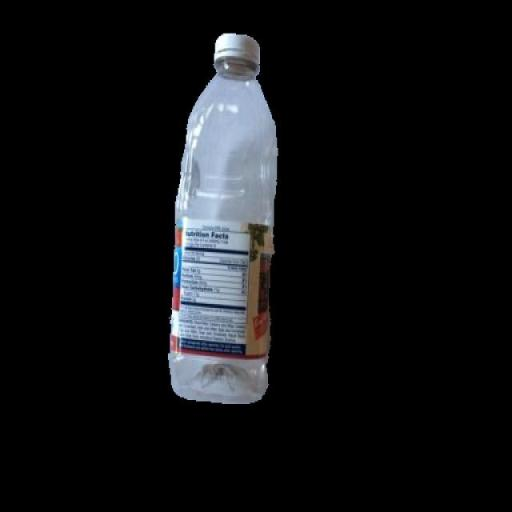plastic: (166, 32, 280, 412)
